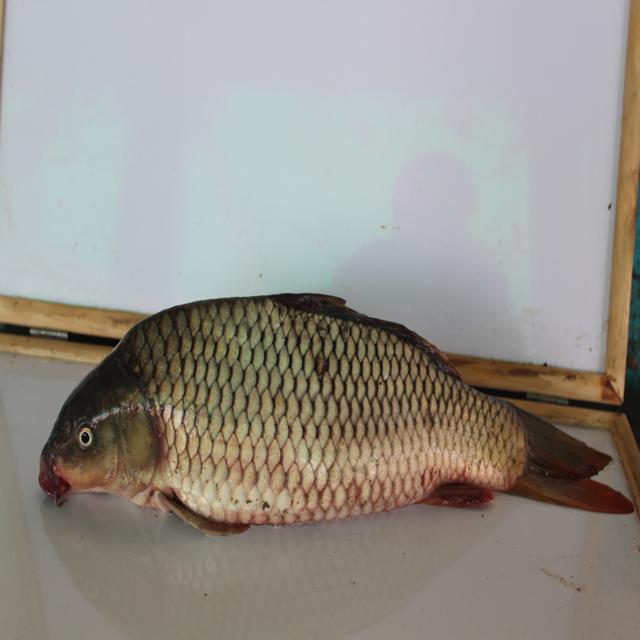CommonCarp: (32, 292, 640, 545)
